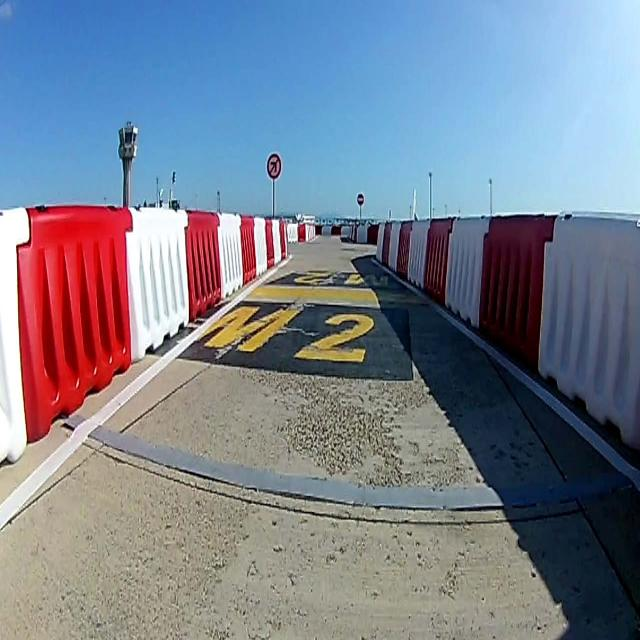soladonulmez: (266, 154, 282, 178)
